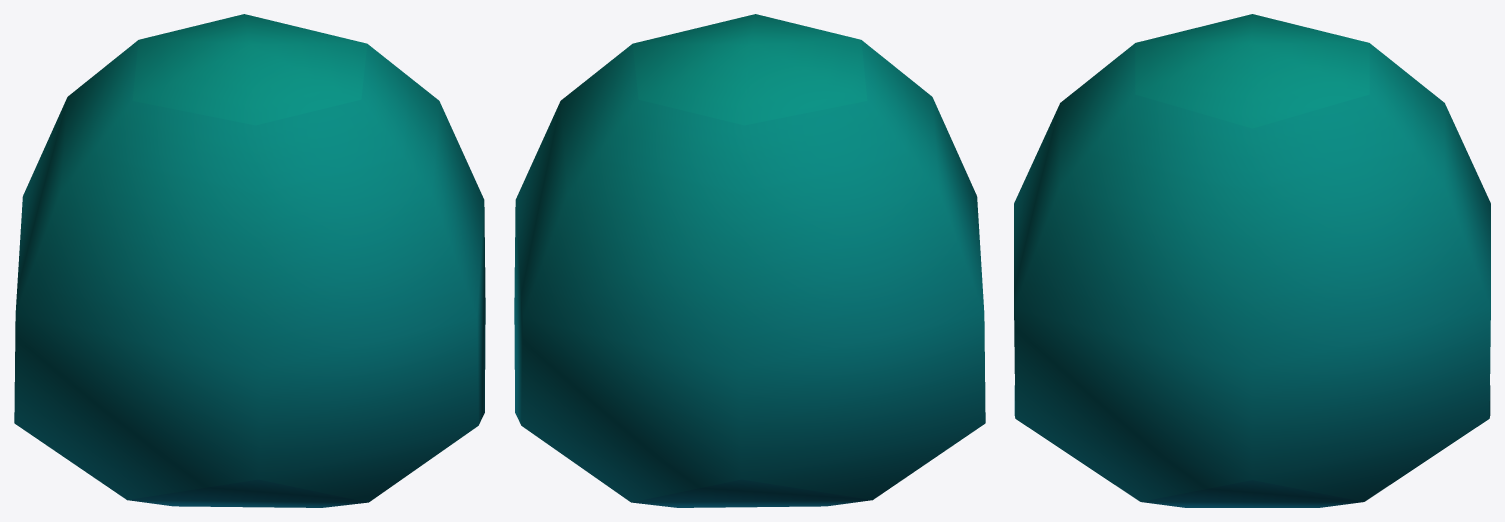
Rendered from thornsnarl.gltf.
3 renders of one model, left to right at view 1: azimuth 30°, elevation 25°; view 2: azimuth 150°, elevation 25°; view 3: azimuth 270°, elevation 25°, orthographic.
Parts seen in each view (by area): view 1: Bush_1_A_Color4; view 2: Bush_1_A_Color4; view 3: Bush_1_A_Color4.
Part boxes in pixels (<box>): Bush_1_A_Color4: <box>14,14,485,507</box>; Bush_1_A_Color4: <box>514,14,985,507</box>; Bush_1_A_Color4: <box>1014,14,1490,507</box>.
Bounding box in the file's own units: 0.2672 × 0.2267 × 0.2341.
Materials: 1 (1 with a texture image).
